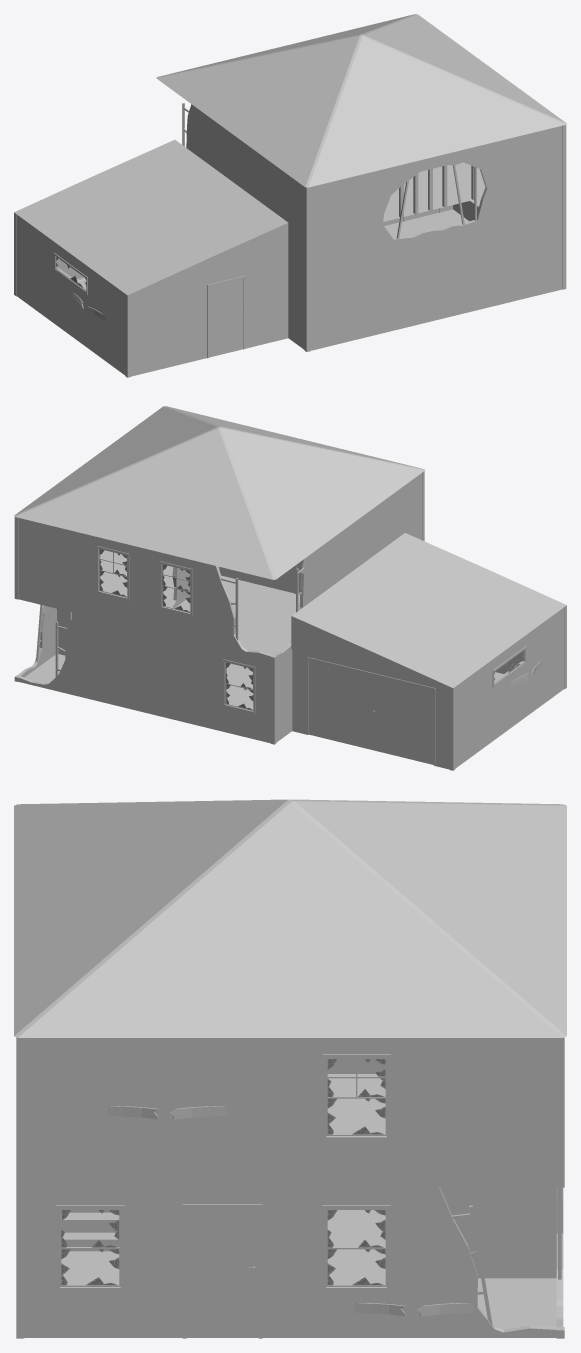
File: Suburbs_house10.fbx
3 renders of one model, top to bottom at view 1: azimuth 30°, elevation 25°; view 2: azimuth 150°, elevation 25°; view 3: azimuth 270°, elevation 25°, orthographic. The views are drawn at different scales.
Visible parts, largest first — view 1: Cube.1551, Cube.031, SmallHouse1.028, Cube.1566, Cube.1813; view 2: Cube.031, Cube.1551, SmallHouse1.028, Cube.1566, Cube.1821, Cube.1822; view 3: Cube.031, SmallHouse1.028, Cube.1551, Cube.1816.
Part boxes in pixels (box(x1,y1,x2,y2)): Cube.1551: box(14, 201, 566, 377); Cube.031: box(156, 14, 566, 187); SmallHouse1.028: box(182, 103, 566, 269); Cube.1566: box(14, 139, 288, 295); Cube.1813: box(209, 278, 242, 356); Cube.031: box(14, 406, 425, 579); Cube.1551: box(14, 604, 566, 770); SmallHouse1.028: box(14, 471, 424, 661); Cube.1566: box(291, 533, 566, 688); Cube.1821: box(309, 660, 371, 749); Cube.1822: box(371, 675, 433, 764); Cube.031: box(14, 799, 566, 1037); SmallHouse1.028: box(16, 1037, 564, 1187); Cube.1551: box(16, 1187, 564, 1338); Cube.1816: box(186, 1208, 258, 1336).
Size of the model in its own units: 1359 by 699 by 831.
